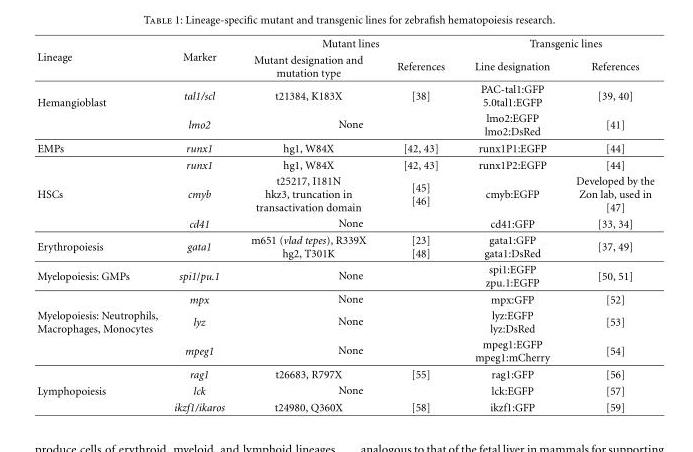table: (36, 37, 653, 413)
table column: (237, 37, 380, 413), (36, 37, 165, 413), (459, 37, 562, 413), (562, 37, 653, 413), (380, 37, 459, 413), (165, 37, 237, 413)
table column header: (36, 37, 653, 80)
table row: (36, 172, 653, 214), (36, 109, 653, 139), (36, 231, 653, 261), (36, 51, 653, 80), (36, 80, 653, 109), (36, 261, 653, 290), (36, 307, 653, 336), (36, 336, 653, 365), (36, 139, 653, 156), (36, 214, 653, 231), (36, 290, 653, 307), (36, 381, 653, 398), (36, 156, 653, 172), (36, 365, 653, 381), (36, 398, 653, 413), (36, 37, 653, 51)
table spanning cell: (36, 307, 165, 381), (36, 80, 165, 139), (36, 172, 165, 231), (237, 109, 459, 139), (237, 261, 459, 290), (237, 307, 459, 336), (237, 336, 459, 365), (36, 261, 165, 307), (36, 37, 165, 80), (36, 139, 165, 172), (36, 381, 165, 413), (237, 214, 459, 231), (237, 290, 459, 307), (237, 381, 459, 398), (237, 37, 459, 51), (165, 37, 237, 80), (459, 37, 653, 51)
